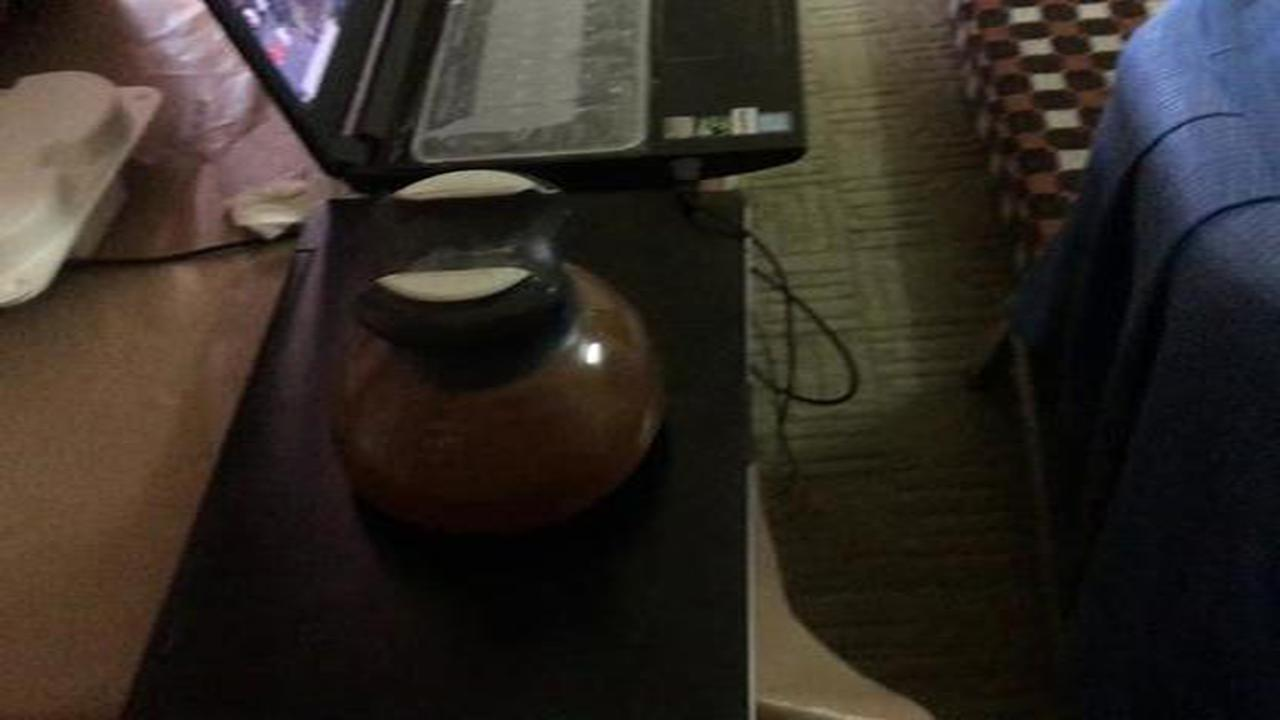insulator_pin: (308, 165, 690, 549)
